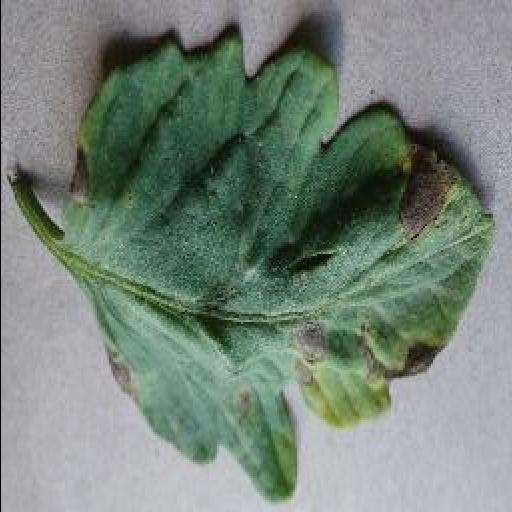disease_tomato: (71, 30, 493, 500)
